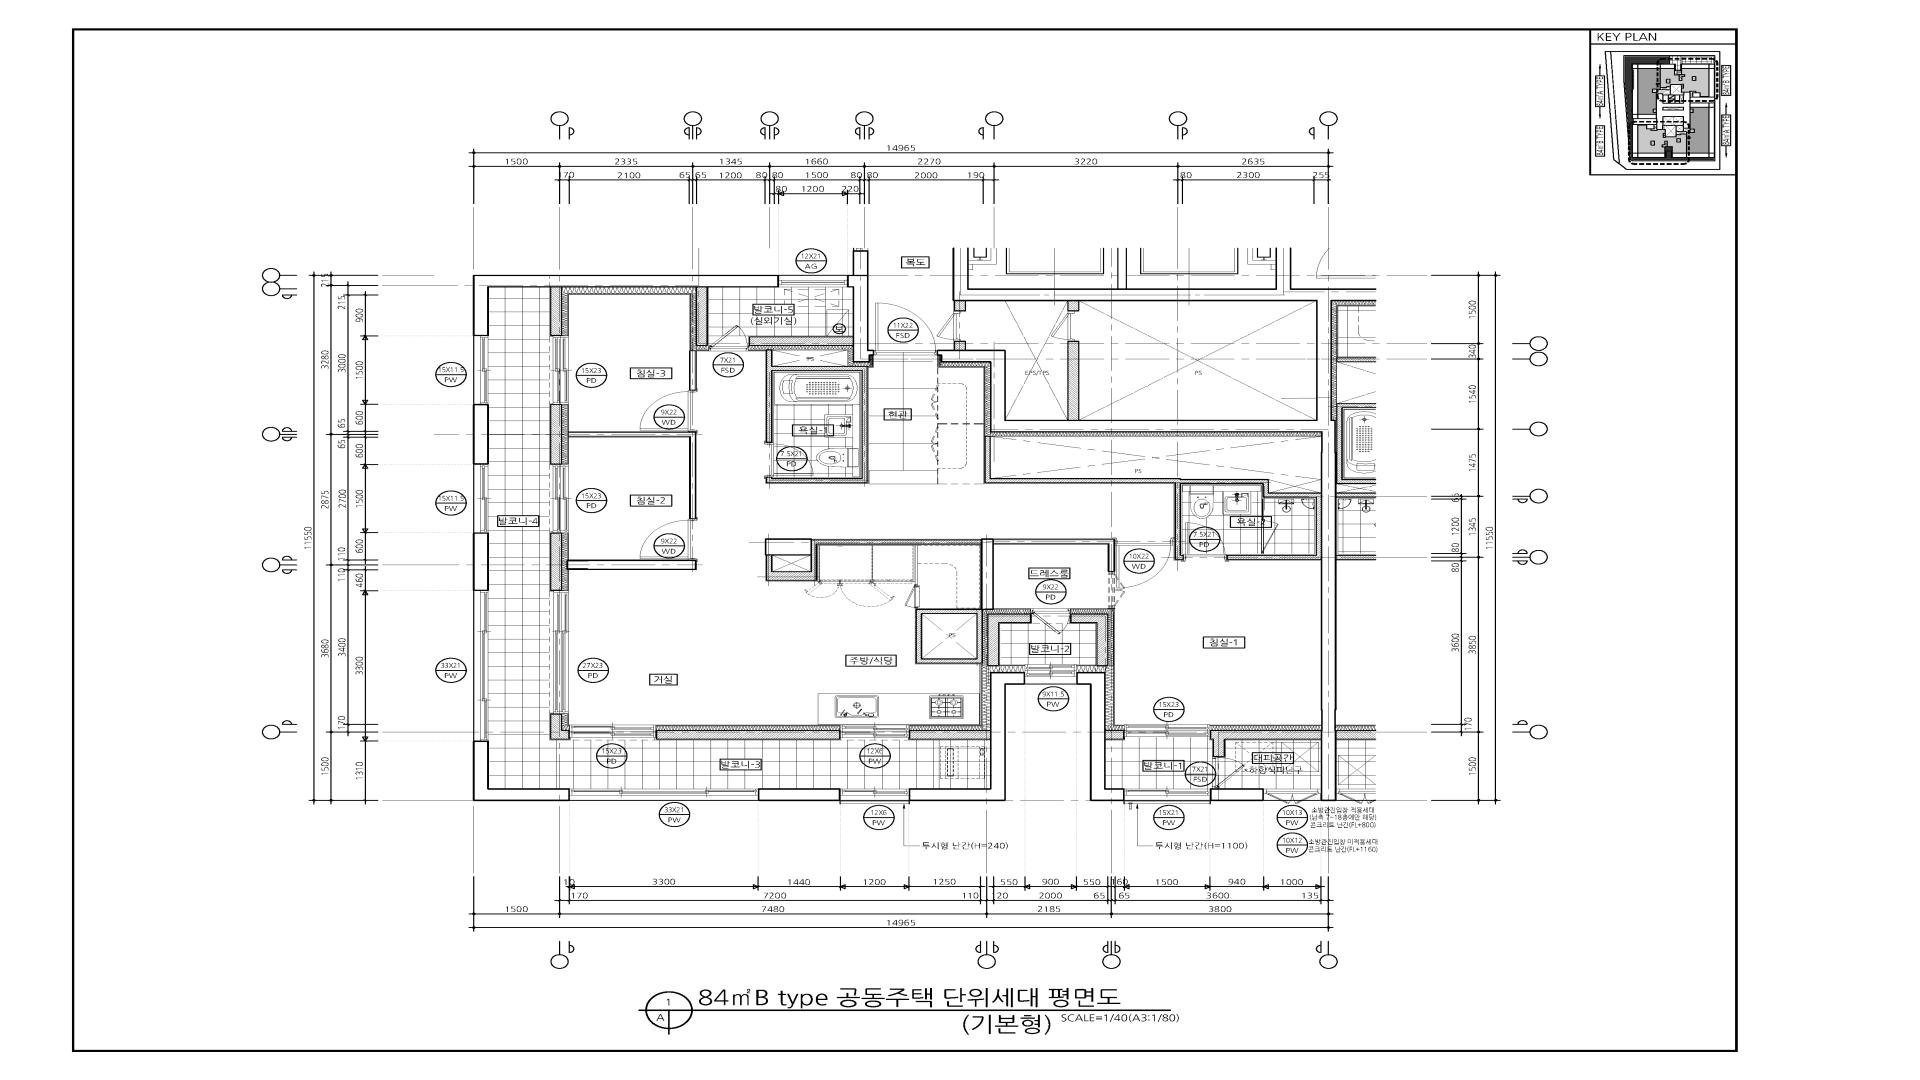door: (874, 302, 936, 355), (1115, 541, 1174, 589), (640, 391, 697, 432), (639, 518, 696, 559), (765, 443, 815, 477), (1184, 522, 1227, 561), (1261, 498, 1281, 554), (1031, 609, 1070, 636), (709, 324, 748, 351), (1212, 757, 1245, 788), (1051, 311, 1075, 341), (936, 312, 961, 340), (1108, 572, 1126, 609), (905, 585, 920, 608)
wall: (938, 249, 1336, 800), (984, 436, 1321, 560), (473, 275, 779, 336), (909, 672, 1025, 801), (766, 350, 868, 483), (569, 432, 696, 519), (766, 540, 981, 585), (1076, 672, 1125, 801), (473, 741, 570, 801), (994, 539, 1115, 572), (915, 609, 983, 663), (847, 251, 874, 362), (1210, 730, 1321, 757), (922, 614, 978, 658), (988, 614, 1032, 666), (1070, 614, 1108, 666), (656, 730, 841, 740), (566, 560, 696, 570), (758, 788, 841, 801), (473, 532, 489, 591), (749, 336, 853, 345), (980, 539, 993, 609), (473, 405, 488, 464), (1068, 341, 1079, 421), (909, 730, 990, 740), (766, 539, 811, 556), (550, 405, 562, 465), (550, 533, 562, 591), (696, 287, 708, 345), (1210, 788, 1263, 801), (550, 287, 562, 336), (550, 713, 570, 740), (689, 351, 696, 391), (1106, 731, 1124, 739), (1067, 301, 1079, 311), (954, 301, 966, 311), (954, 341, 966, 350)
window: (549, 591, 569, 713), (571, 788, 757, 801), (473, 590, 488, 740), (549, 465, 569, 533), (550, 336, 569, 405), (570, 725, 656, 740), (1125, 789, 1210, 804), (1125, 724, 1210, 737), (840, 789, 909, 804), (841, 725, 909, 740), (1025, 664, 1076, 684), (473, 336, 488, 404), (474, 465, 489, 533), (1264, 789, 1320, 804), (779, 275, 847, 287)
